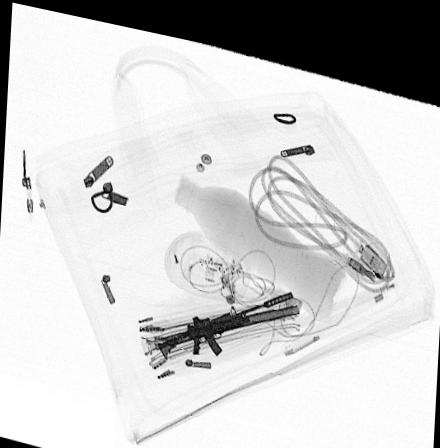Gun: (156, 277, 293, 352)
